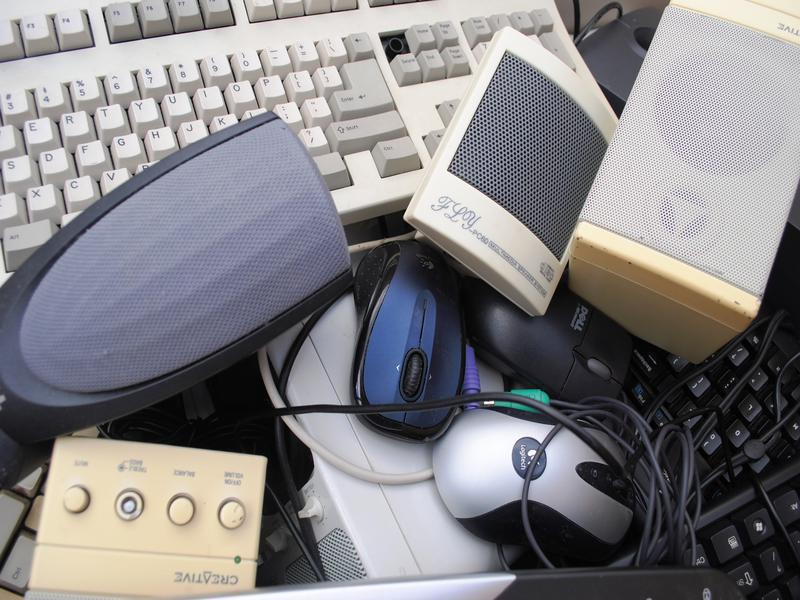keyboard: (1, 1, 615, 280)
mouse: (428, 409, 640, 563), (347, 241, 469, 441), (472, 275, 640, 415)
